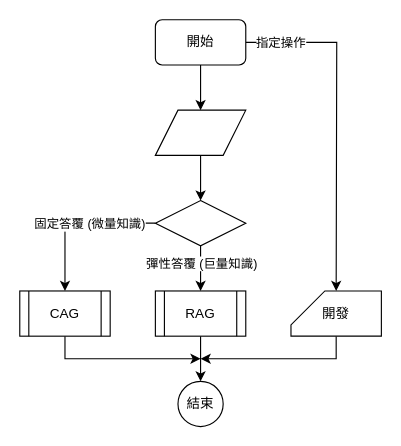
Image size: 401x446. Some labels were removed from this diagram. Each missing label, with the centre of its shape:
"上傳知識" belongs at pixel 200 132.
"知識類型" belongs at pixel 200 222.
